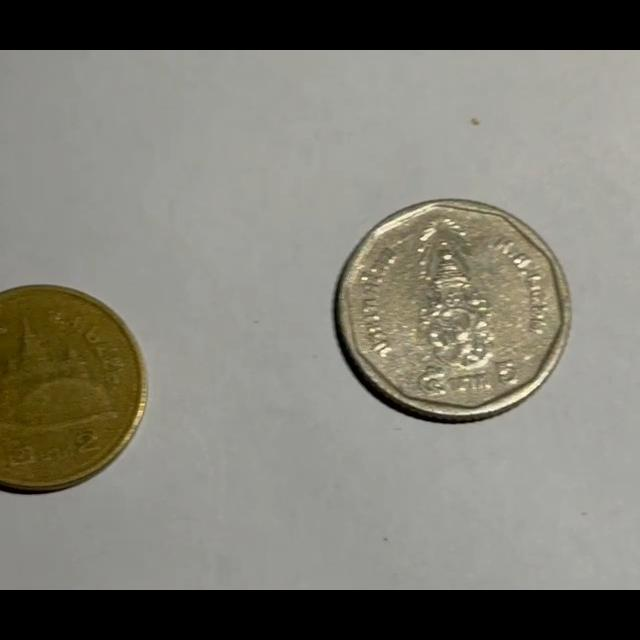2-baht: (0, 284, 146, 493)
5-baht: (334, 198, 568, 422)
